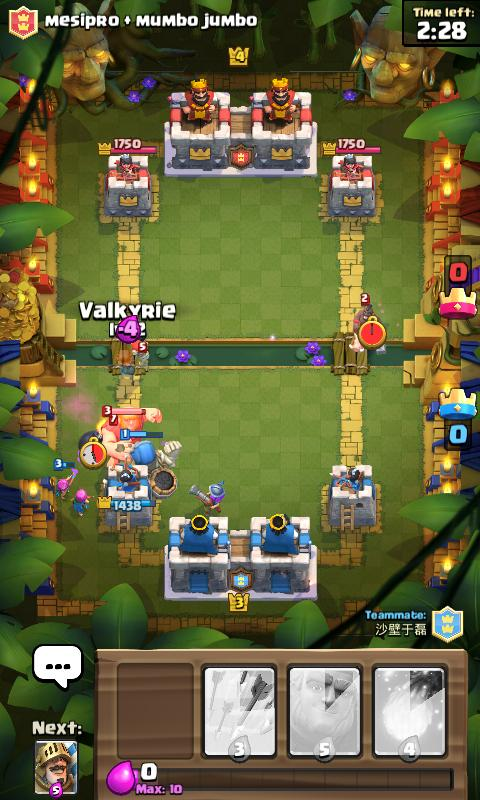ally_archer: (52, 457, 73, 501), (69, 488, 94, 517)
ally_giant_skeleton: (119, 428, 182, 500)
ally_musketeer: (187, 478, 225, 515)
enemy_bomber: (129, 339, 148, 367)
enemy_giant: (99, 403, 162, 463)
enemy_giant_bomb: (76, 415, 107, 449)
enemy_hog_rider: (346, 292, 387, 358)
